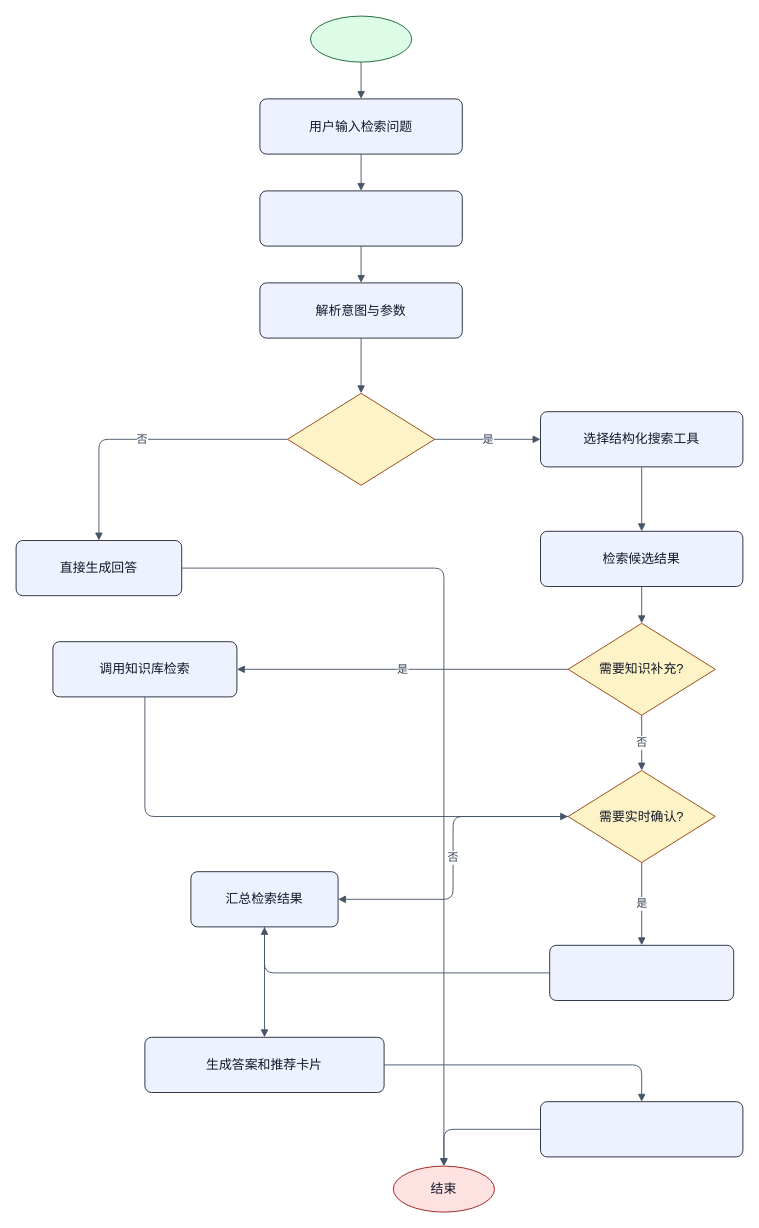
The diagram is 759 pixels wide and 1228 high, and some of its shapes have lost their labels. The centre of each missing label's shape, as x and y in pixels:
创建Agent请求: (x=360, y=218)
开始: (x=361, y=38)
调用实时查询工具: (x=641, y=972)
返回前端展示: (x=641, y=1129)
需要调用工具?: (x=361, y=438)
